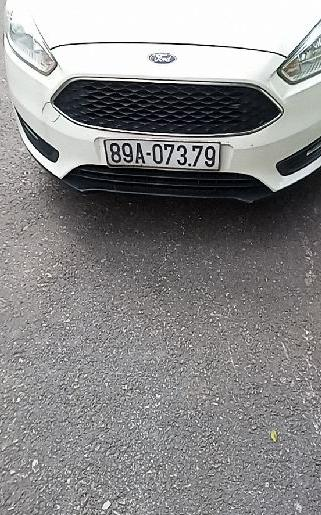Plate-iWeP: (106, 142, 220, 168)
